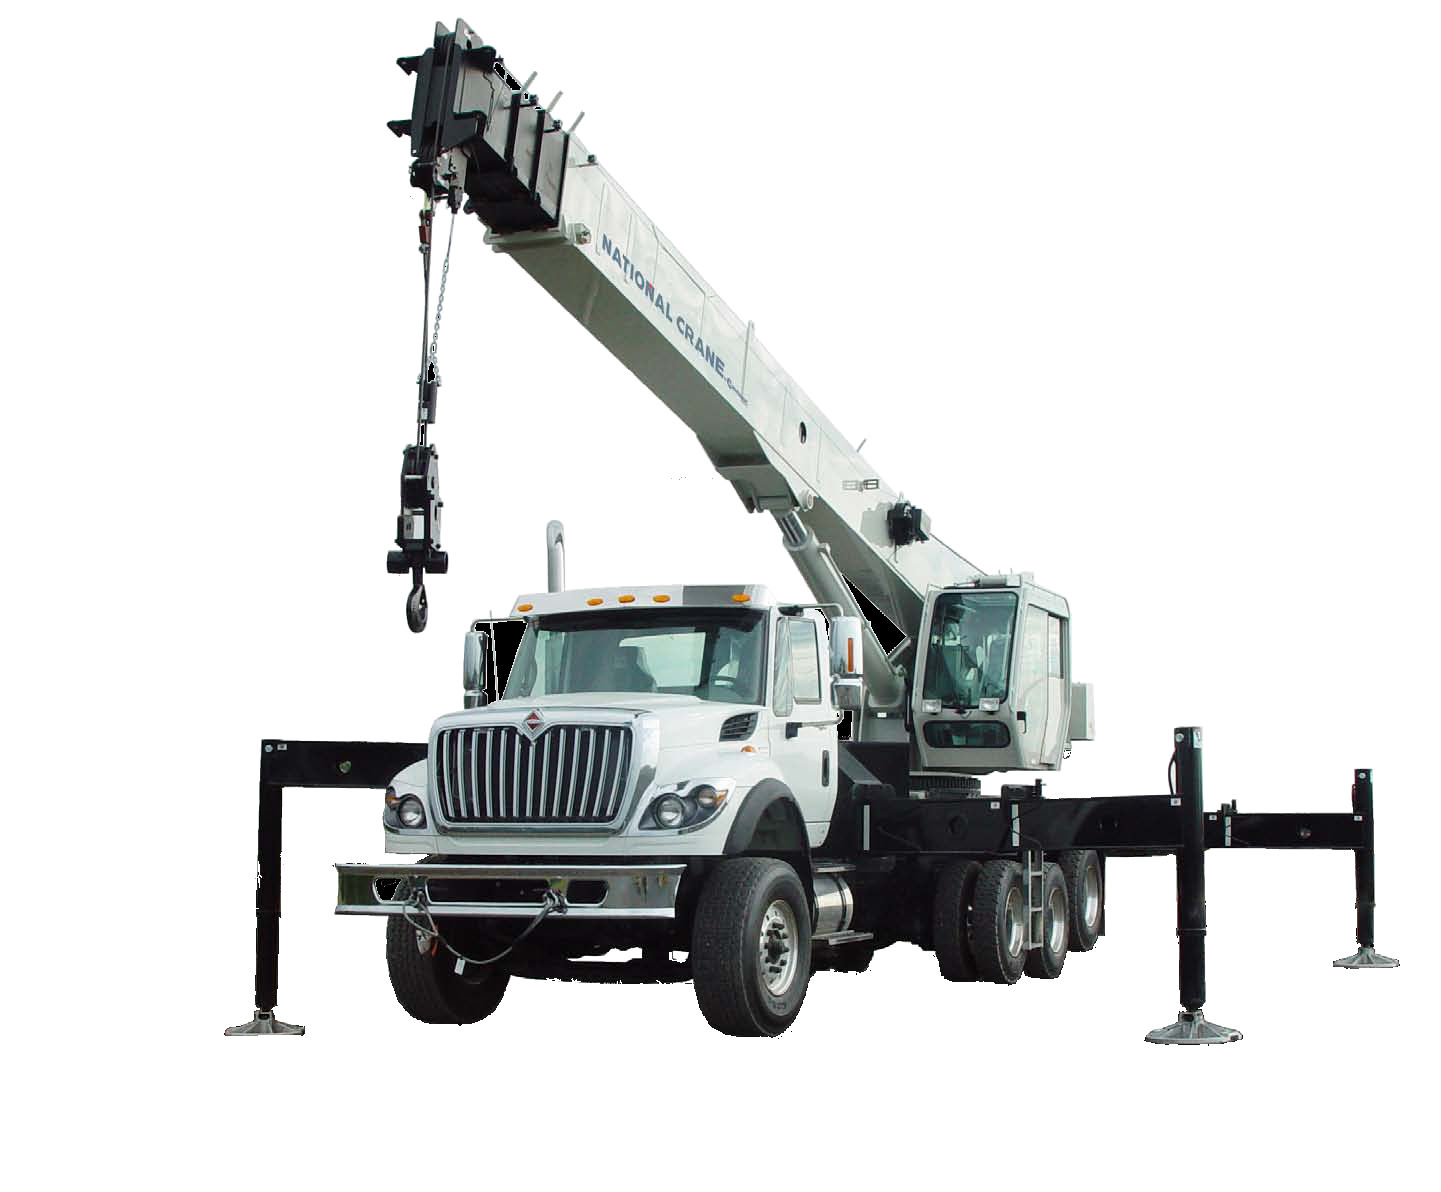crane: (349, 22, 1124, 1044)
